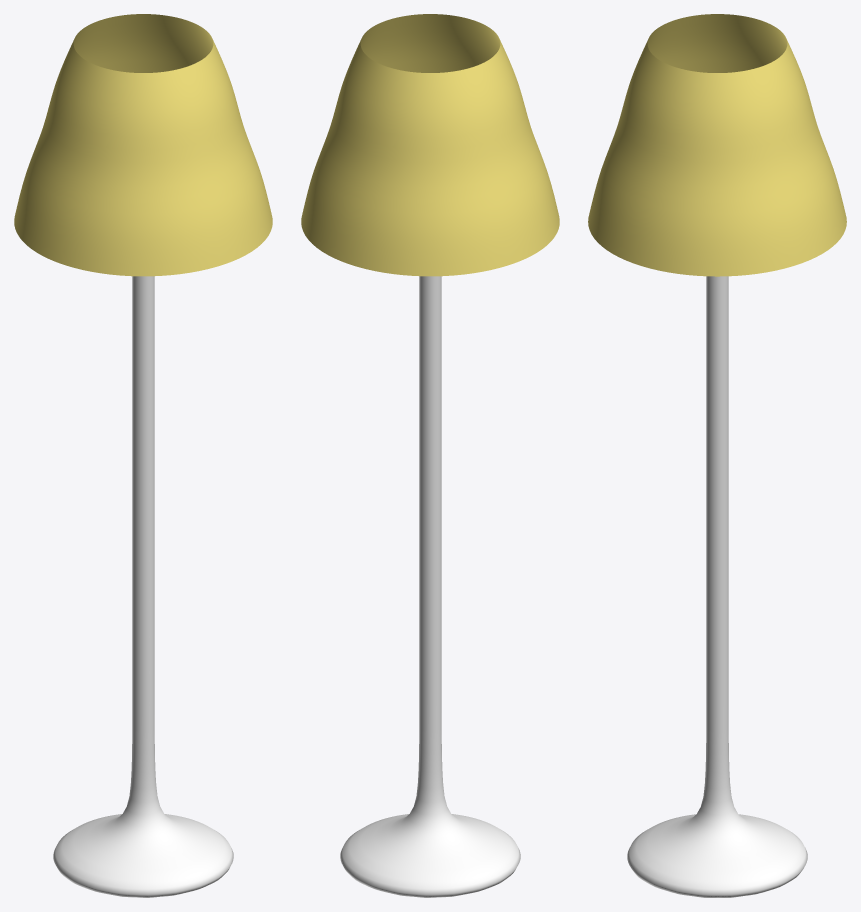
File: Lamp.fbx
3 views of the same model, side by side, from view 1: azimuth 30°, elevation 25°; view 2: azimuth 150°, elevation 25°; view 3: azimuth 270°, elevation 25° (orthographic).
Visible parts, largest first — view 1: Lamp; view 2: Lamp; view 3: Lamp.
Boxes of the visible parts, x1,y1,x2,y2 form: Lamp: (14,14,272,897); Lamp: (301,14,559,897); Lamp: (588,14,846,897).
Bounding box in the file's own units: 8.79 × 30.85 × 8.79.
